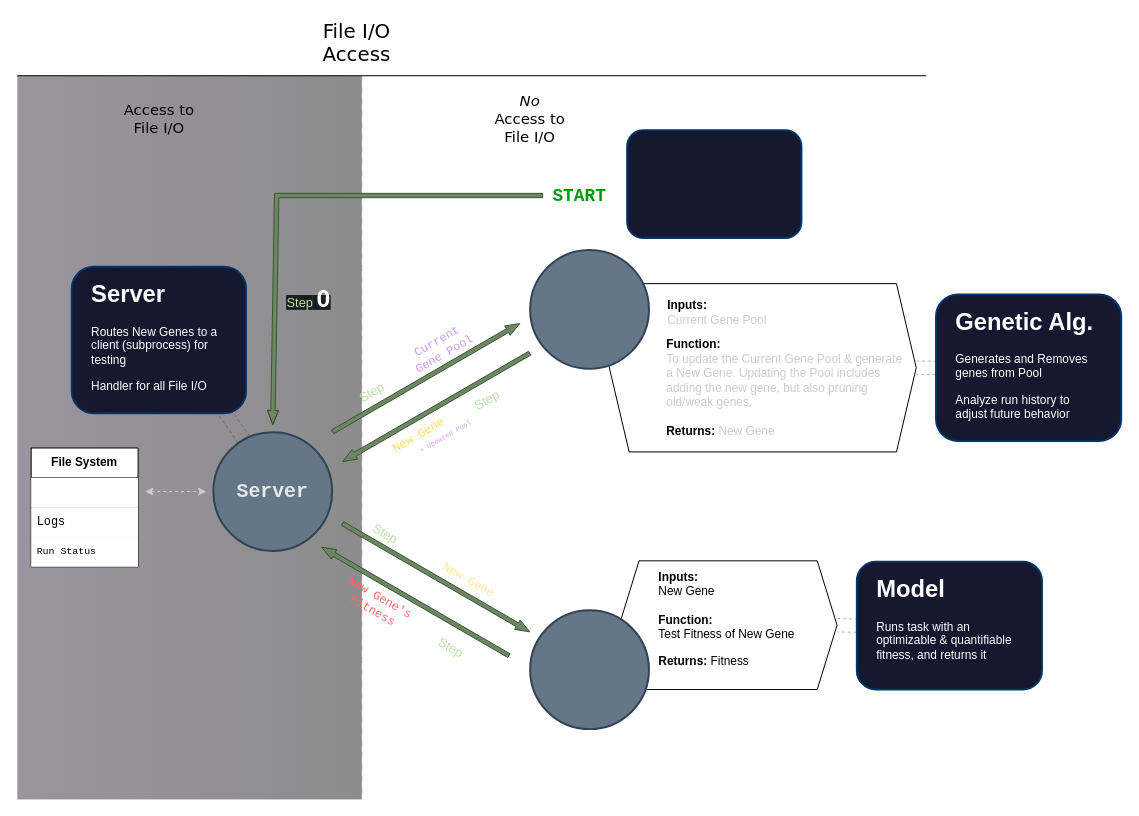
Some shapes in this 1139 by 816 pixel diagram are drawn without their labels. Each missing label, with the centre of its shape:
"Gene Pool" goes at pixel 84 492.
"Genetic Algorithm" goes at pixel 589 308.
"Model" goes at pixel 589 669.
"Starter File Create file to initialize run by starting Server" goes at pixel 714 184.
